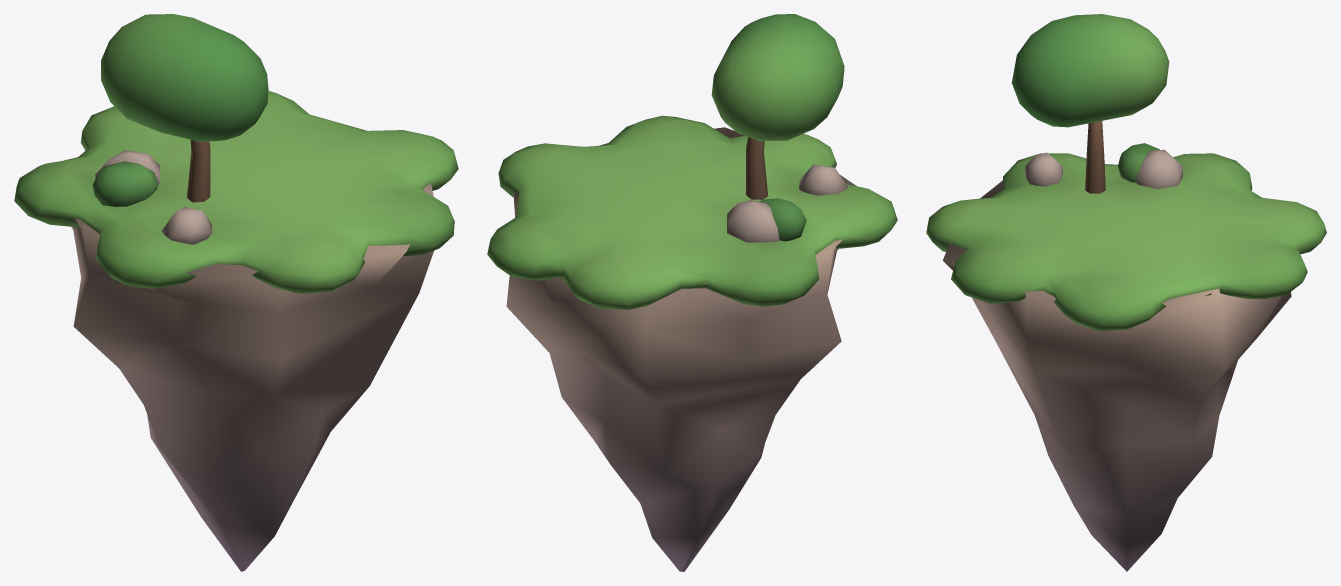
File: env_sky_islet_4_lite.glb
3 views of the same model, side by side, from view 1: azimuth 30°, elevation 25°; view 2: azimuth 150°, elevation 25°; view 3: azimuth 270°, elevation 25° (orthographic). The views are drawn at different scales.
Visible parts, largest first — view 1: SM_sky_sky_vc_x0_z0.033; view 2: SM_sky_sky_vc_x0_z0.033; view 3: SM_sky_sky_vc_x0_z0.033.
Boxes of the visible parts, x1=… form: SM_sky_sky_vc_x0_z0.033: x1=14, y1=14, x2=458, y2=571; SM_sky_sky_vc_x0_z0.033: x1=487, y1=14, x2=897, y2=571; SM_sky_sky_vc_x0_z0.033: x1=926, y1=14, x2=1326, y2=571.
Size of the model in its own units: 7.21 by 10.63 by 7.52.
